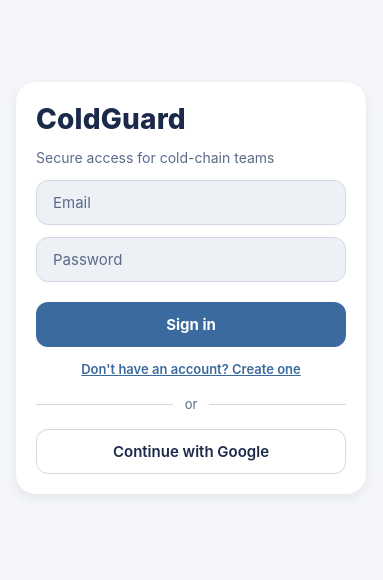
Test: hides password guidance in sign-in mode and shows it in create-account mode
Expected: the text "Password requirements" is not shown
Click the text "Don't have an account? Create one" at x=191, y=369, box [81,361,301,377]
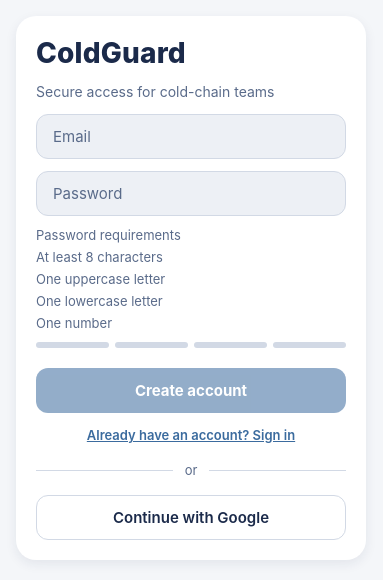
Expected: the text "Password requirements" is shown, [36,227,181,243]
